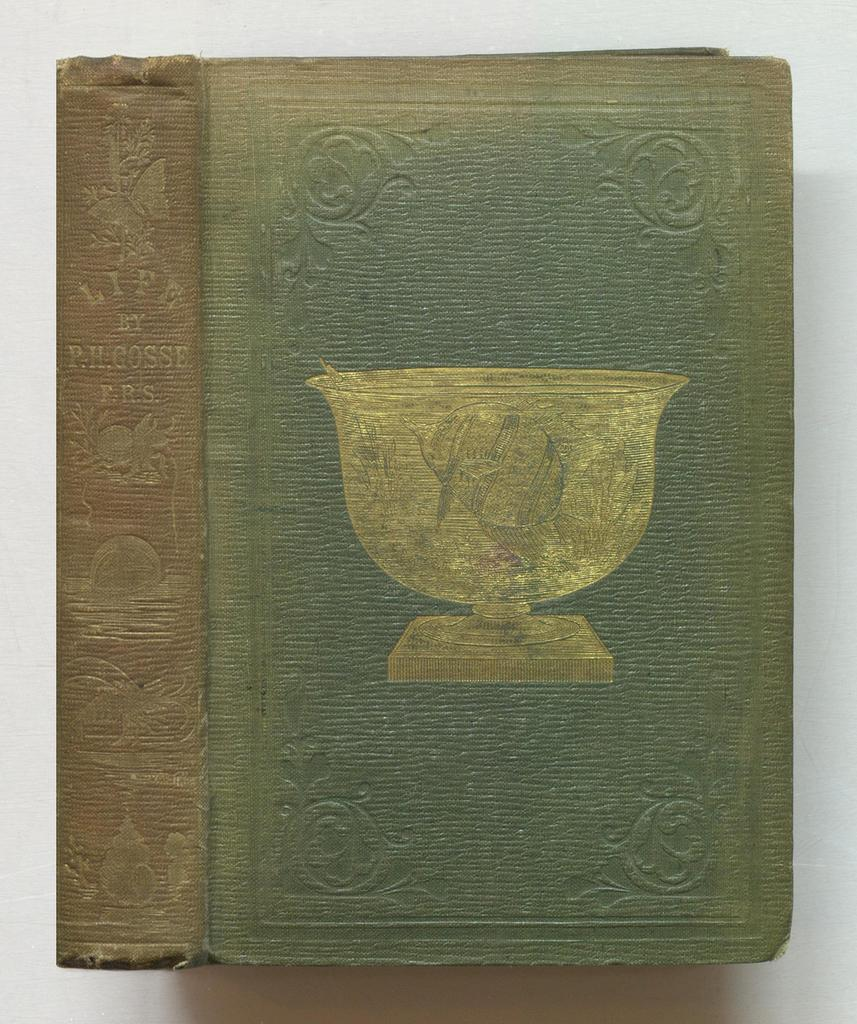book: (26, 89, 796, 984)
